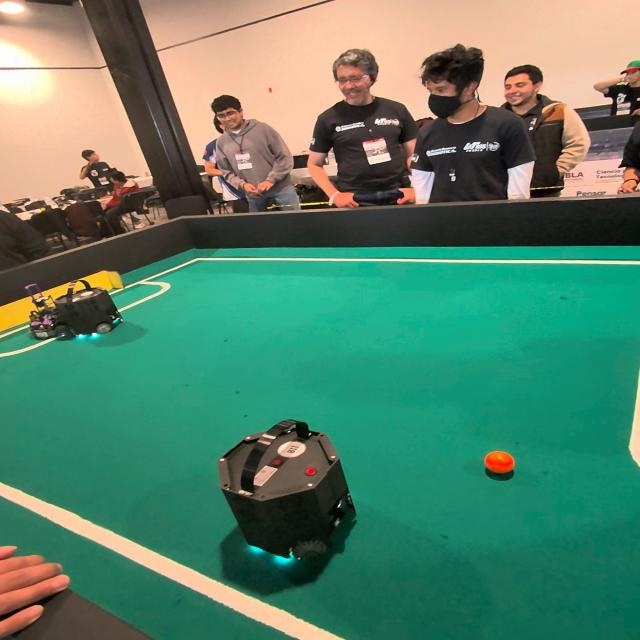Robot: (212, 414, 371, 586), (24, 284, 69, 344)
pelota: (483, 452, 515, 478)
